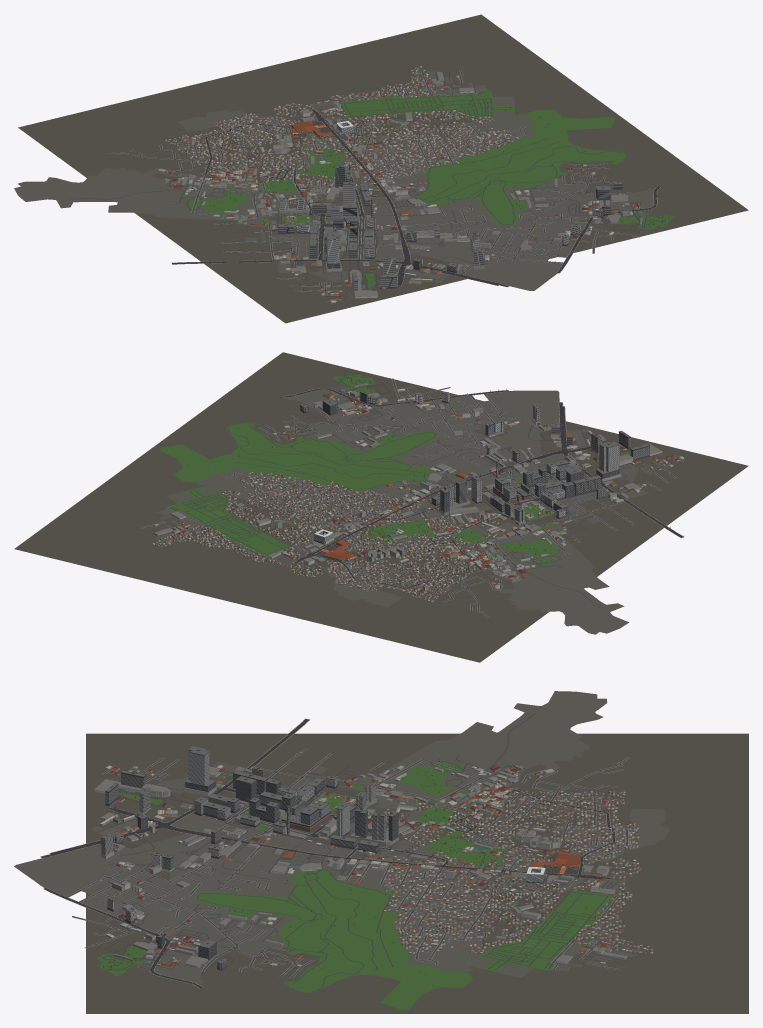
File: banilad_map.glb
3 views of the same model, one above another, from view 1: azimuth 30°, elevation 25°; view 2: azimuth 150°, elevation 25°; view 3: azimuth 270°, elevation 25° (orthographic). The views are drawn at different scales.
Visible parts, largest first — view 1: Ground-col, Landuse, Roads_Minor, Buildings-col, Buildings_Infill-col, Sidewalks-col, Roads_Major, Ayala Malls Central Bloc-col, Props_Solid-col; view 2: Ground-col, Landuse, Buildings-col, Buildings_Infill-col, Roads_Minor, Sidewalks-col, Roads_Major, Ayala Malls Central Bloc-col; view 3: Ground-col, Landuse, Buildings-col, Buildings_Infill-col, Roads_Minor, Sidewalks-col, Roads_Major, Ayala Malls Central Bloc-col, Props_Solid-col, Gaisano Country Mall-col.
Part boxes in pixels (x1,y1,x2,y2): Ground-col: (18, 14, 748, 323); Landuse: (14, 71, 673, 297); Roads_Minor: (70, 70, 665, 301); Buildings-col: (157, 71, 643, 303); Buildings_Infill-col: (165, 66, 519, 203); Sidewalks-col: (105, 70, 660, 302); Roads_Major: (172, 110, 660, 286); Ayala Malls Central Bloc-col: (326, 203, 358, 228); Props_Solid-col: (129, 73, 668, 300); Ground-col: (14, 352, 748, 662); Landuse: (151, 375, 663, 634); Buildings-col: (153, 382, 684, 593); Buildings_Infill-col: (152, 471, 502, 601); Roads_Minor: (139, 377, 682, 617); Sidewalks-col: (139, 378, 684, 617); Roads_Major: (279, 388, 683, 588); Ayala Malls Central Bloc-col: (493, 477, 532, 503); Ground-col: (86, 733, 748, 1013); Landuse: (14, 691, 669, 1010); Buildings-col: (100, 746, 627, 968); Buildings_Infill-col: (383, 790, 653, 954); Roads_Minor: (67, 713, 642, 991); Sidewalks-col: (40, 718, 642, 988); Roads_Major: (41, 719, 615, 988); Ayala Malls Central Bloc-col: (282, 801, 330, 832); Props_Solid-col: (50, 748, 631, 986); Gaisano Country Mall-col: (531, 851, 580, 873).
Size of what is drawn, in the model's own units: 2880 by 169 by 2771.
